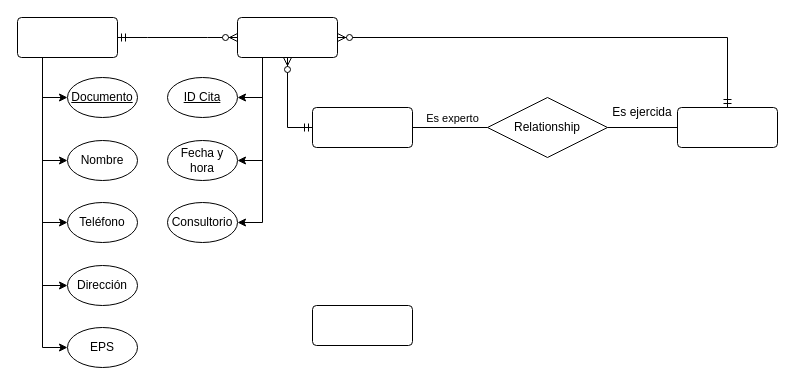
The diagram is 795 pixels wide and 385 high, and some of its shapes have lost their labels. The box of each missing label's shape, as (x1, y1, x2, y2) in pixels:
Cita: (236, 16, 338, 58)
Especialidad: (676, 106, 778, 148)
Factura: (312, 304, 412, 346)
Médico: (312, 106, 412, 148)
Paciente: (16, 16, 118, 58)
